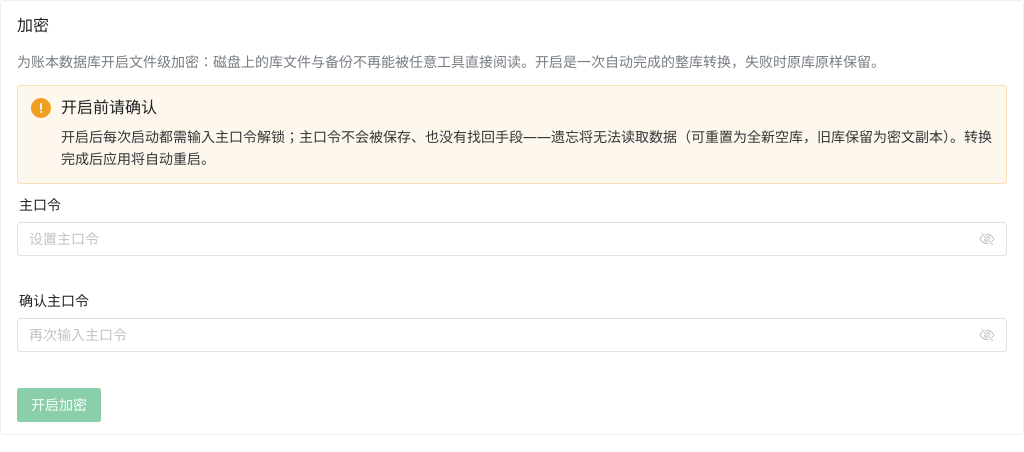
it: EncryptionSettings.vue（设置页加密卡片） › 两次输入不一致：禁用提交并给出即时反馈
This screenshot has width=1024, height=452.
Step 1. Type "主口令至少八个字" into the password field with placeholder "设置主口令" → coordinates (502, 239), box [29, 222, 975, 256]
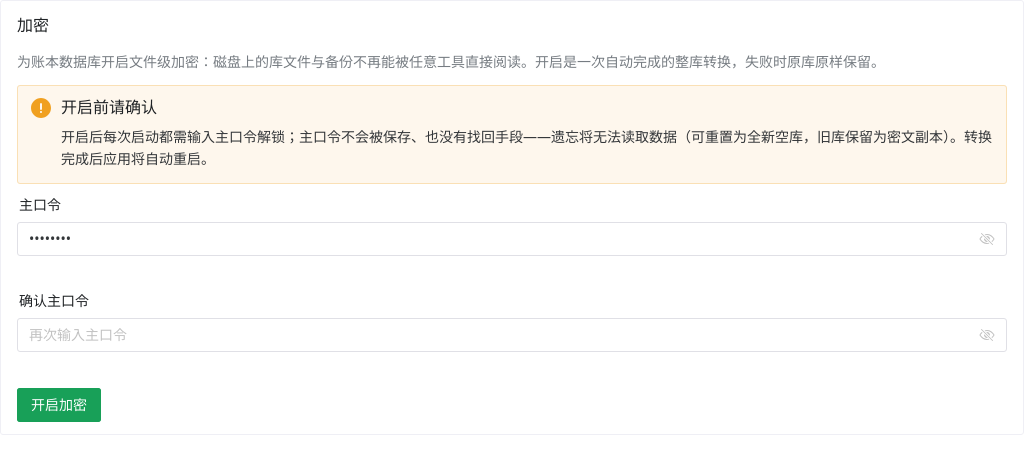
Step 2. Type "不一样的八个字符" into the password field with placeholder "再次输入主口令" → coordinates (502, 335), box [29, 318, 975, 352]
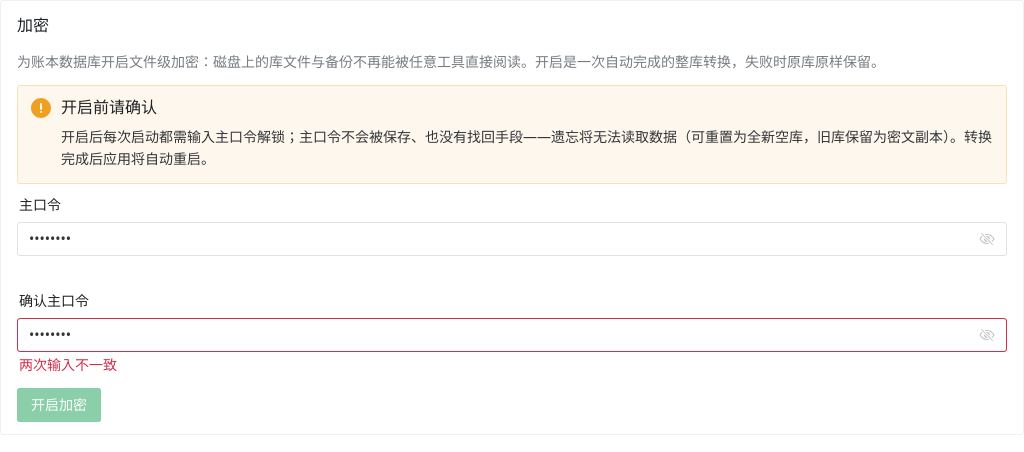
Expected: the text "两次输入不一致" is shown, [19, 355, 117, 374]
Expected: the button "开启加密" is disabled, [17, 388, 101, 422]
